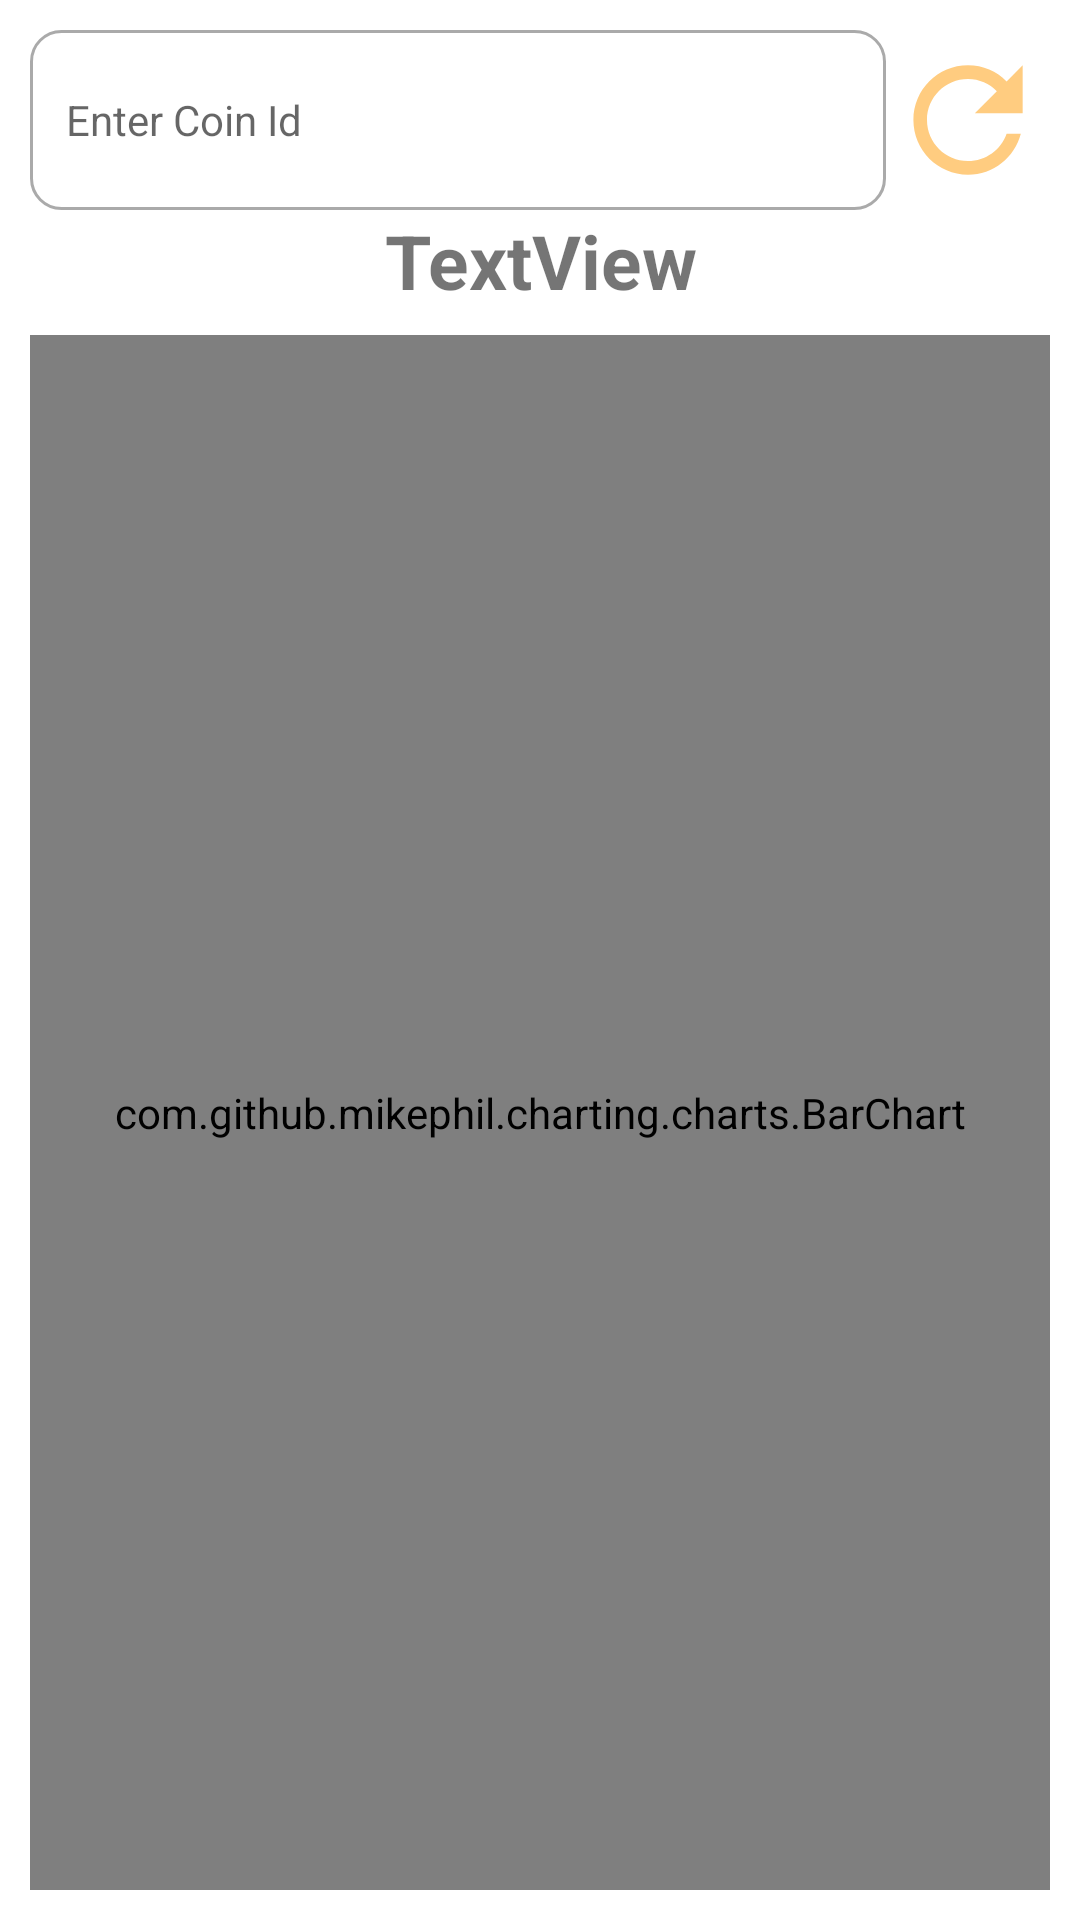

Where to tap for icons on this 1080*1920 app screen, as [x,y]:
refreshbutton: [968,120]
